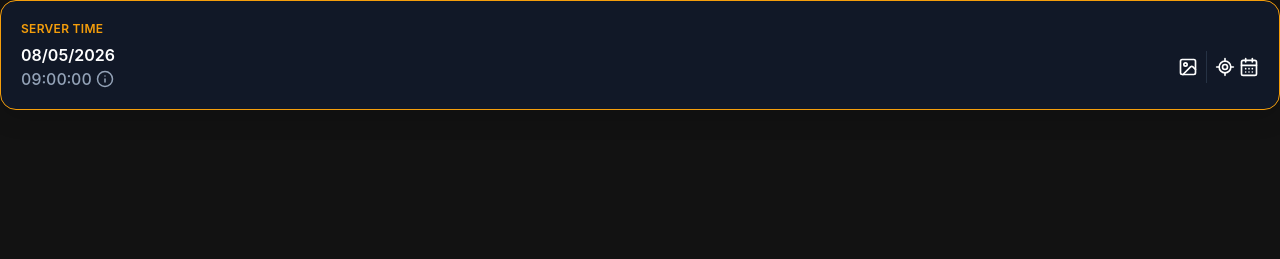
Test case: DateSummary › shows the server-time explanation on hover
Hover over the button named "About server time": x=105, y=79 [96, 70, 114, 88]
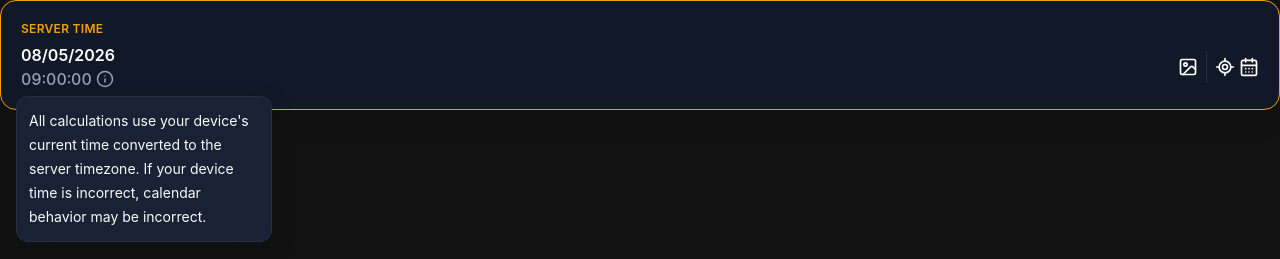
Check: the tooltip is shown, box [16, 96, 272, 242]
Move the pointer off the button named "About server time", box [96, 70, 114, 88]
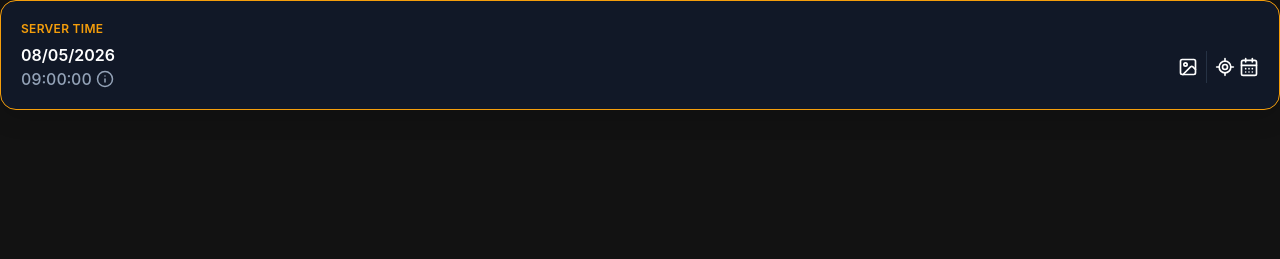
Check: the tooltip is gone
